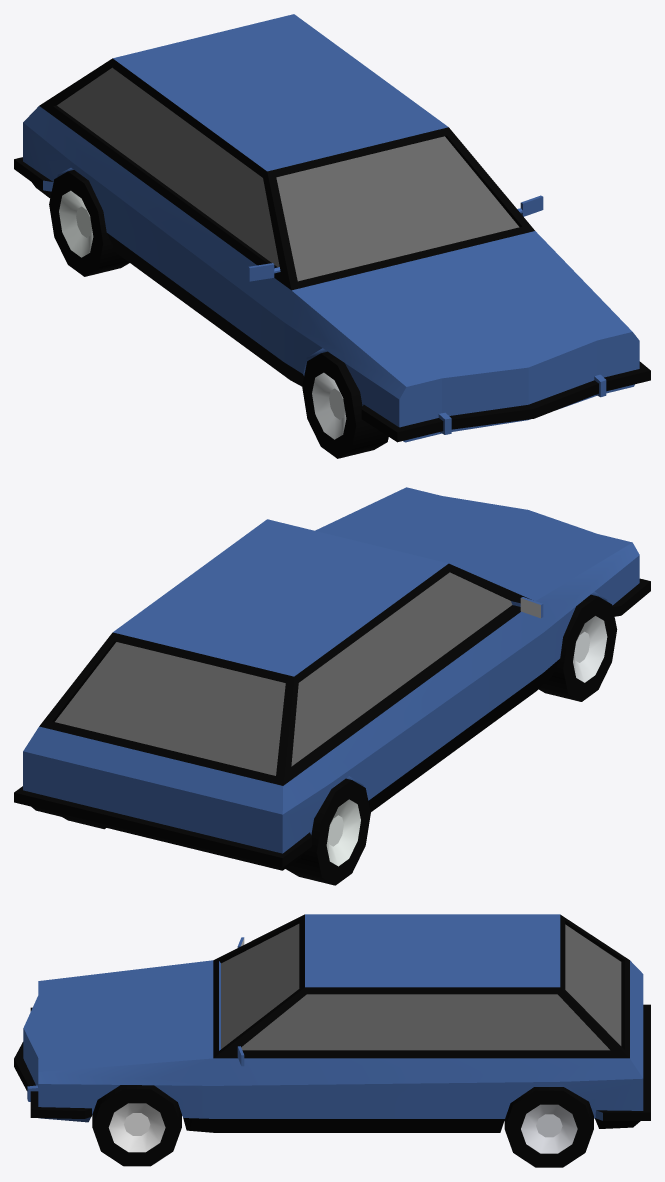
The model's file is blueCar.fbx.
3 renders of one model, top to bottom at view 1: azimuth 30°, elevation 25°; view 2: azimuth 150°, elevation 25°; view 3: azimuth 270°, elevation 25°, orthographic. The views are drawn at different scales.
Visible parts, largest first — view 1: Object010, Object013, Object014; view 2: Object010, Object014, Object013; view 3: Object010, Object011, Object012.
Boxes of the visible parts, x1,y1,x2,y2 form: Object010: (14,14,650,442); Object013: (302,351,388,458); Object014: (49,170,129,276); Object010: (14,487,650,870); Object014: (285,778,370,885); Object013: (538,594,617,701); Object010: (14,914,650,1132); Object011: (92,1085,181,1166); Object012: (504,1087,593,1167).
Size of the model in its own units: 456 by 293 by 1038.
